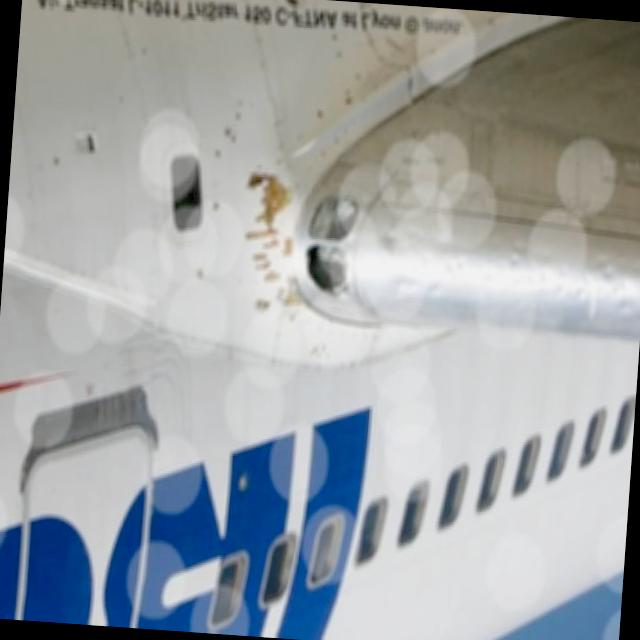dent: (378, 214, 640, 318)
